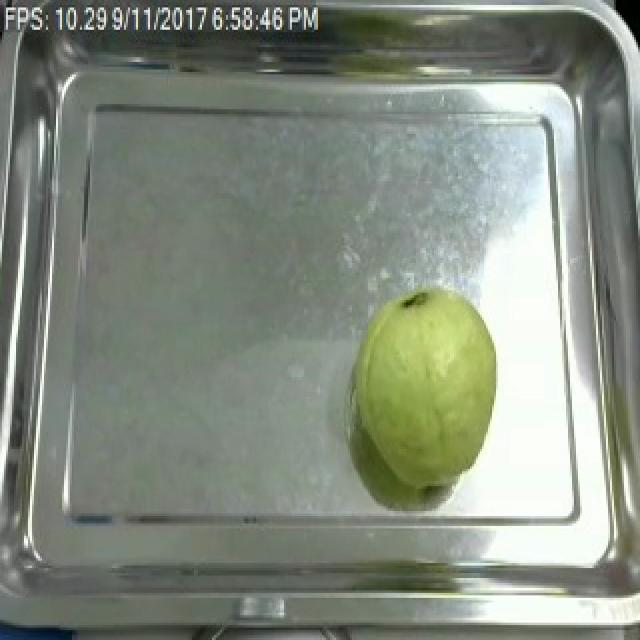Fruit: (342, 280, 508, 494)
